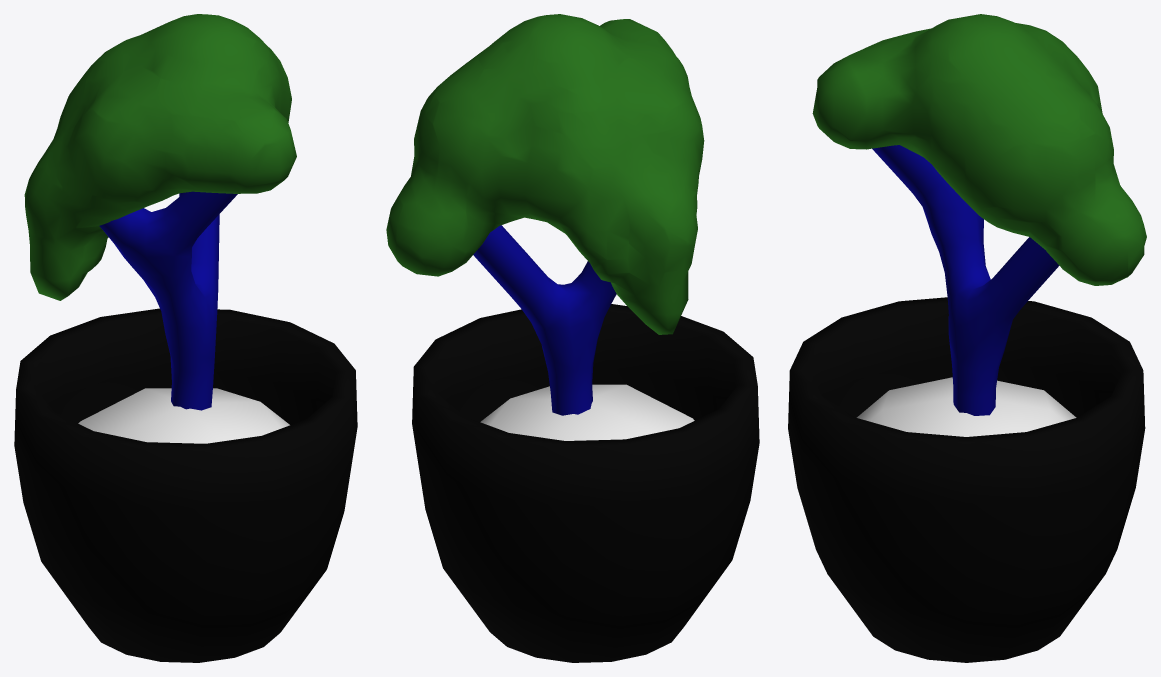
Rendered from SmallBonsaiTree.glb.
3 renders of one model, left to right at view 1: azimuth 30°, elevation 25°; view 2: azimuth 150°, elevation 25°; view 3: azimuth 270°, elevation 25°, orthographic. The views are drawn at different scales.
Parts seen in each view (by area): view 1: SmallBonsaiTree; view 2: SmallBonsaiTree; view 3: SmallBonsaiTree.
Boxes of the visible parts, x1,y1,x2,y2 form: SmallBonsaiTree: (14, 14, 357, 662); SmallBonsaiTree: (386, 14, 759, 662); SmallBonsaiTree: (788, 14, 1146, 662).
Bounding box in the file's own units: 0.603 × 1.15 × 0.606.
